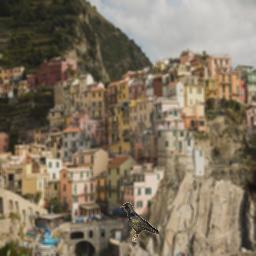Crow: (120, 202, 159, 242)
